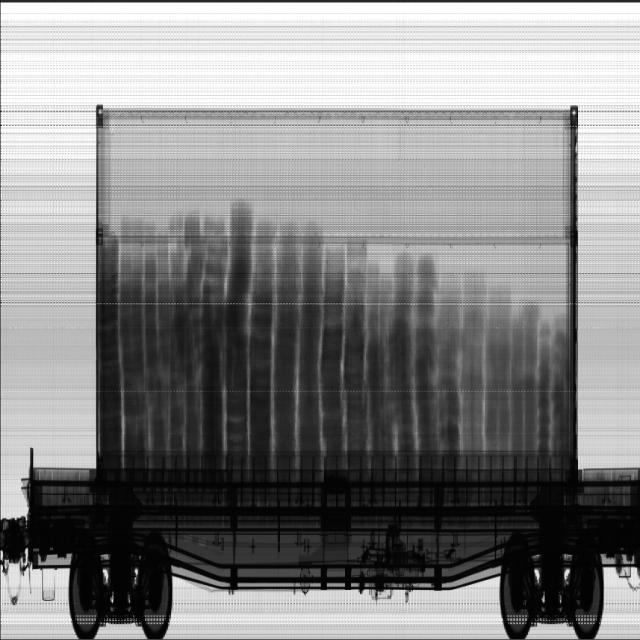clothes: (118, 197, 438, 464)
